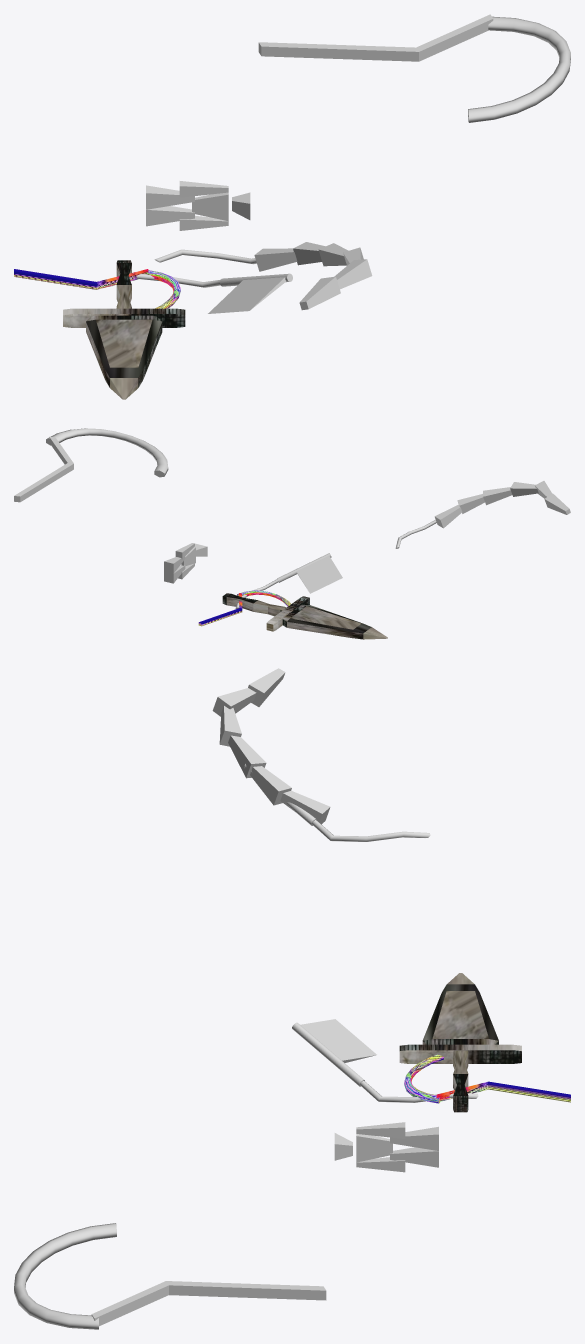
Rendered from mimita-scythe-v1.glb.
3 views of the same model, one above another, from view 1: azimuth 90°, elevation 25°; view 2: azimuth 150°, elevation 25°; view 3: azimuth 270°, elevation 25° (orthographic). The views are drawn at different scales.
Parts seen in each view (by area): view 1: Cube.002, Cube.008, BézierCurve.002, Cube.009, Cube, mimitachar.005, Cube.007, mimitachar.035, Cube.001, mimitachar.017, Cube.006, mimitachar.011 (+4 smaller); view 2: Cube.002, BézierCurve.002, Cube, Cube.008, Cube.009, Cube.005, Cube.001, Cube.004, Cube.003, Cube.007; view 3: Cube.002, Cube.008, BézierCurve.002, Cube.009, Cube, mimitachar.005, Cube.003.
Boxes of the visible parts, box(x1,y1,x2,y2) form: Cube.002: box(63, 260, 185, 399); Cube.008: box(258, 14, 493, 61); BézierCurve.002: box(468, 16, 570, 122); Cube.009: box(14, 269, 180, 308); Cube: box(208, 277, 286, 313); mimitachar.005: box(192, 192, 228, 221); Cube.007: box(299, 276, 340, 310); mimitachar.035: box(146, 185, 194, 209); Cube.001: box(254, 248, 297, 271); mimitachar.017: box(146, 206, 194, 226); Cube.006: box(334, 259, 372, 289); mimitachar.011: box(179, 181, 228, 197); Cube.002: box(222, 593, 387, 639); BézierCurve.002: box(46, 428, 168, 477); Cube: box(297, 556, 342, 593); Cube.008: box(14, 436, 73, 502); Cube.009: box(198, 590, 290, 626); Cube.005: box(483, 487, 512, 505); Cube.001: box(434, 504, 462, 528); Cube.004: box(510, 482, 538, 496); Cube.003: box(457, 494, 484, 513); Cube.007: box(544, 493, 570, 514); Cube.002: box(399, 973, 521, 1112); Cube.008: box(91, 1281, 326, 1326); BézierCurve.002: box(14, 1223, 116, 1329); Cube.009: box(404, 1054, 570, 1103); Cube: box(300, 1019, 376, 1062); mimitachar.005: box(356, 1134, 392, 1162); Cube.003: box(250, 766, 291, 805).
Size of the model in its own units: 36.39 by 7.96 by 18.18.
Materials: 2 (2 with a texture image).
